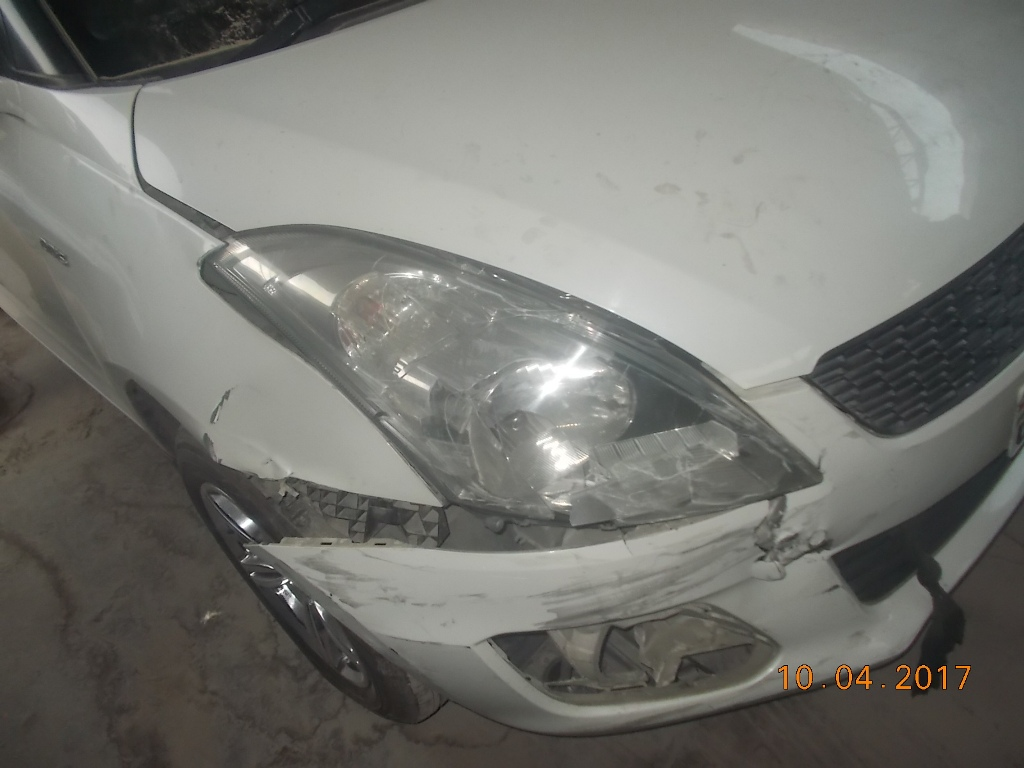Dislocation: (177, 428, 528, 615)
Tear: (742, 508, 832, 593)
